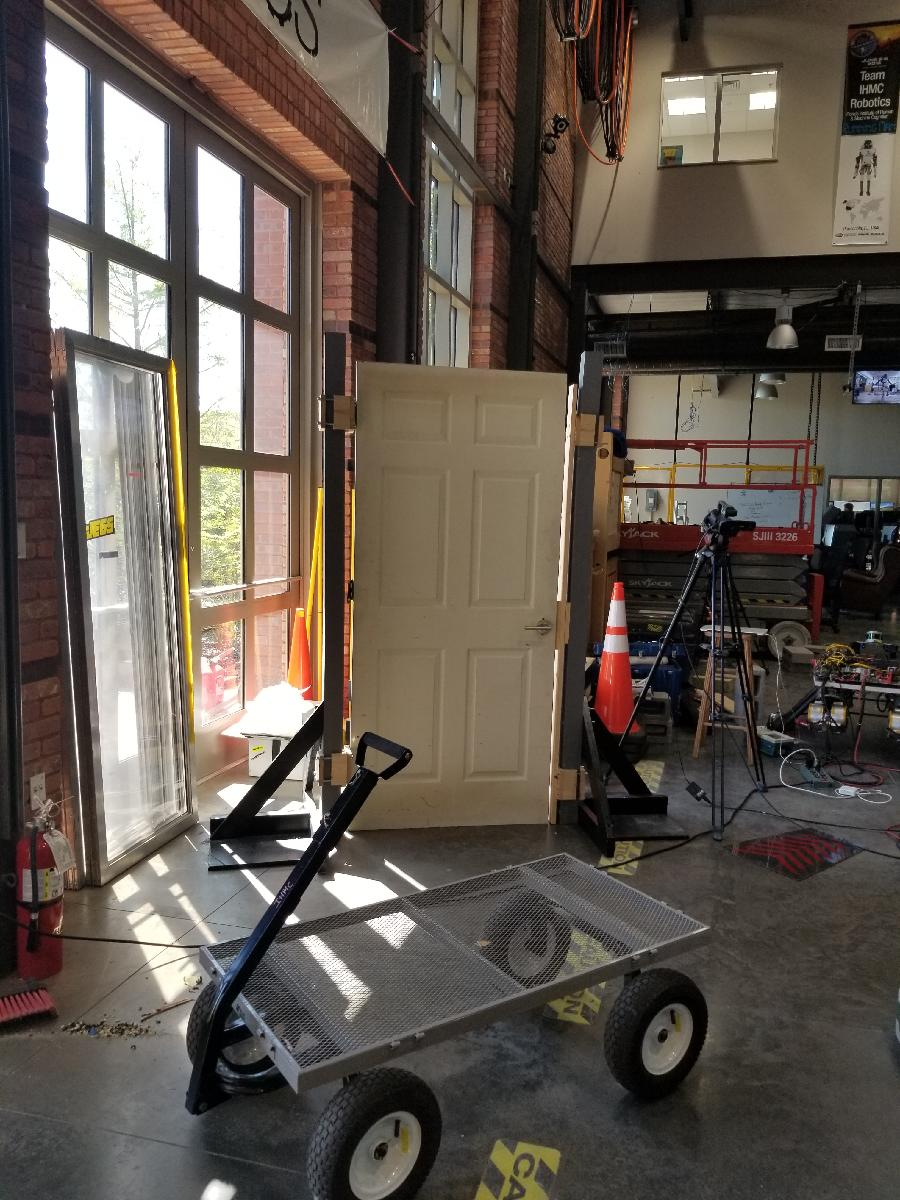door: (346, 358, 569, 839)
doorHandle: (523, 612, 555, 641)
